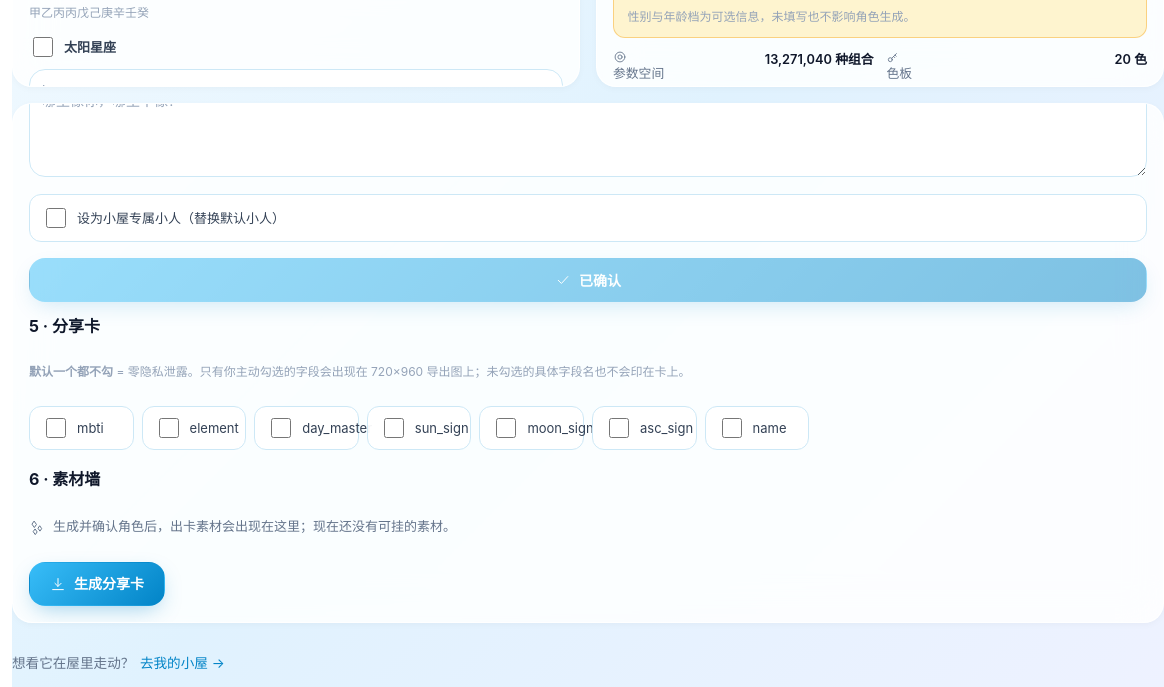
Test: W11 · 确认与分享卡 › 出卡失败时显示后端错误码
The image size is (1164, 687).
(page scrolled)
Click the button "生成分享卡" at x=97, y=584, box [29,562,165,606]
(page scrolled)
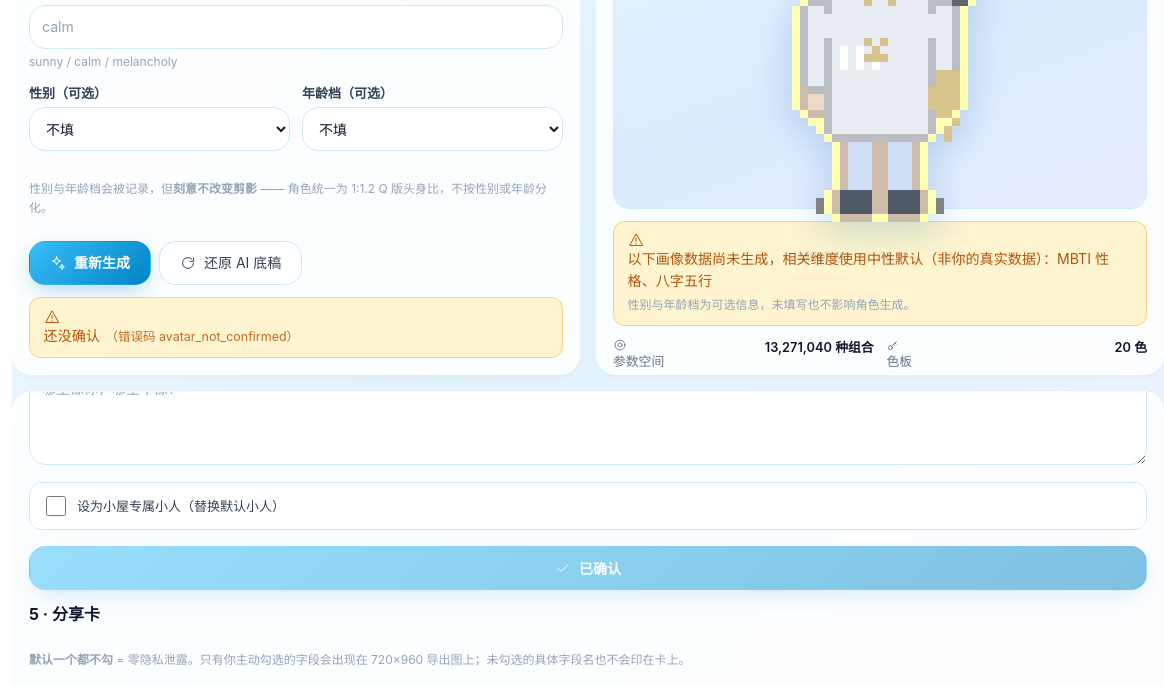
Result: the message shows "avatar_not_confirmed" at [159,329,286,344]
